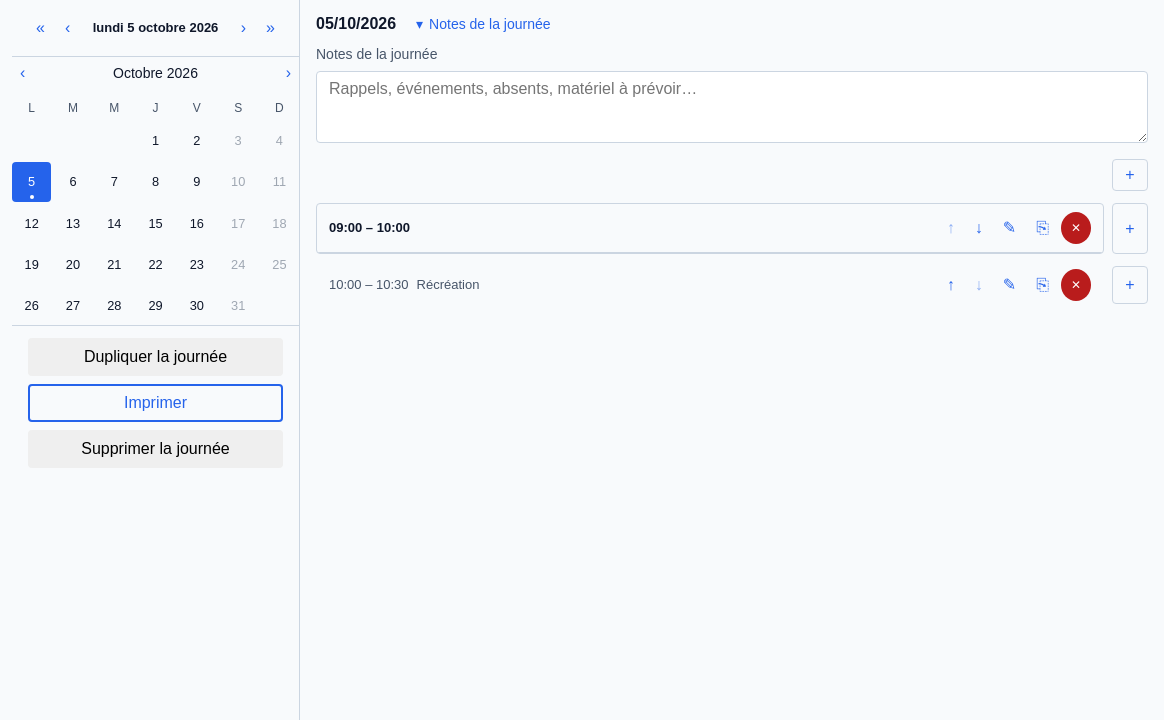
Test: EcranCahierJournalComponent › repli des notes de la journée › replie puis déplie la zone de saisie au clic sur le bouton de bascule
Click the button with id "btnBasculerNotes" at (483, 24), box [408, 12, 559, 36]
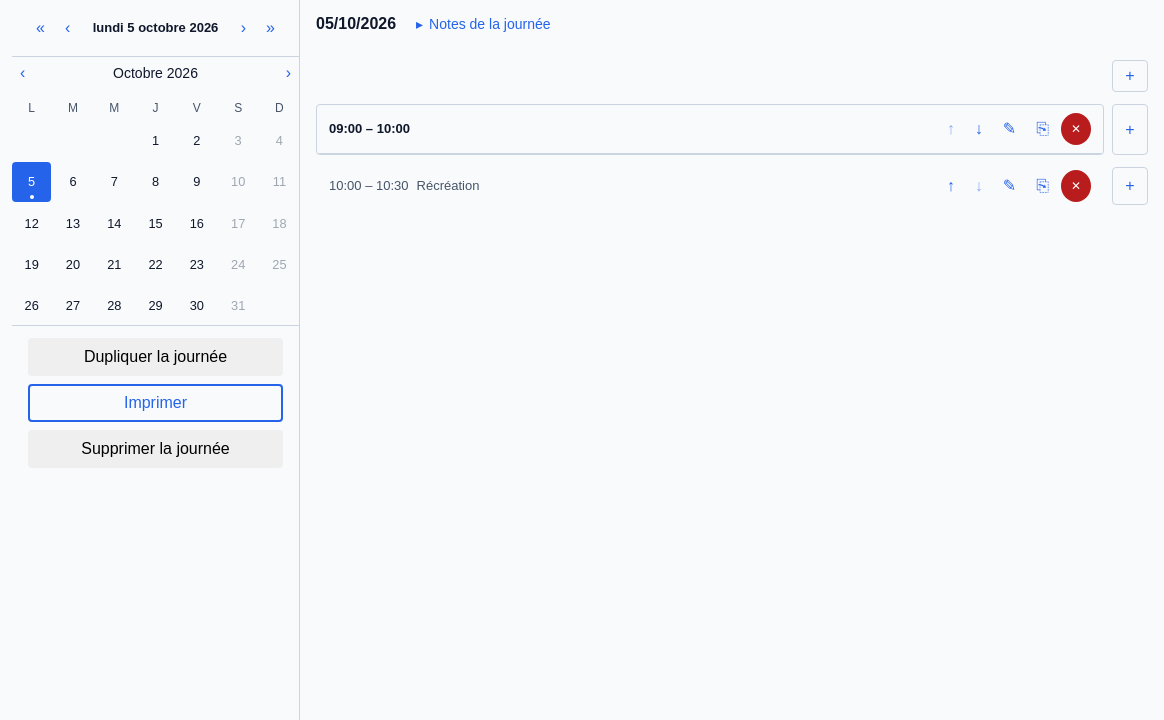
Expected: the label with id "champNotesJournee" is gone
Click the button with id "btnBasculerNotes" at (483, 24), box [408, 12, 559, 36]
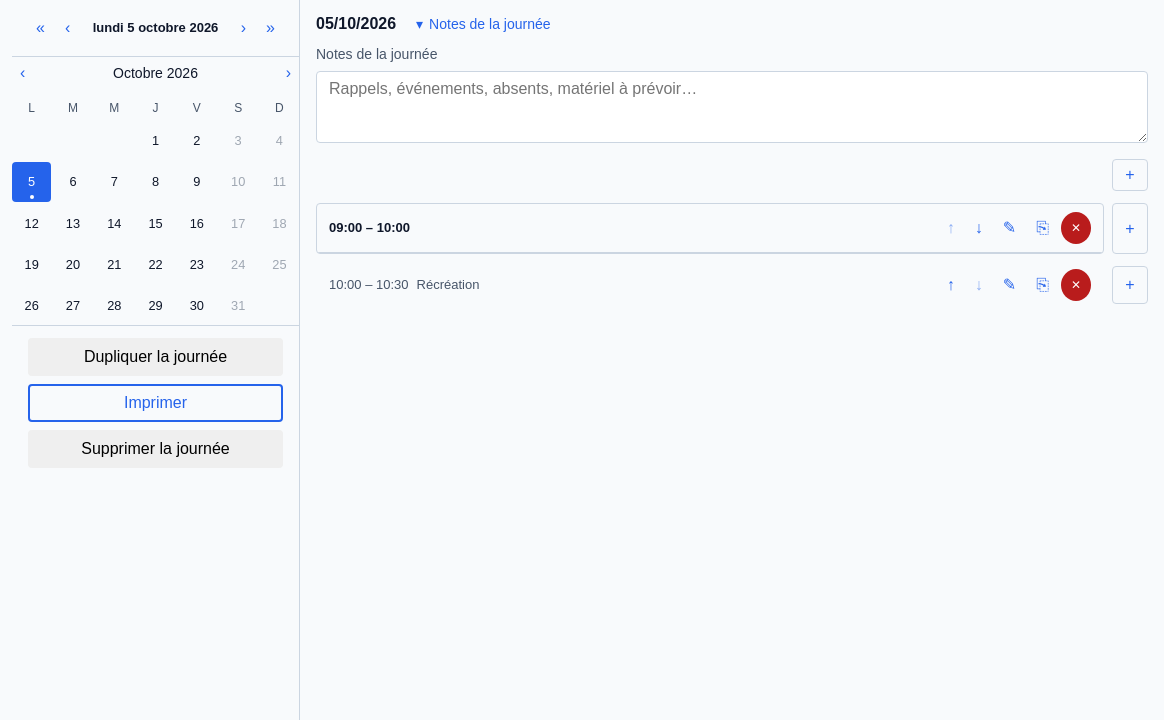
Expected: the element with id "champNotesJournee" is shown, [316, 44, 1148, 143]
